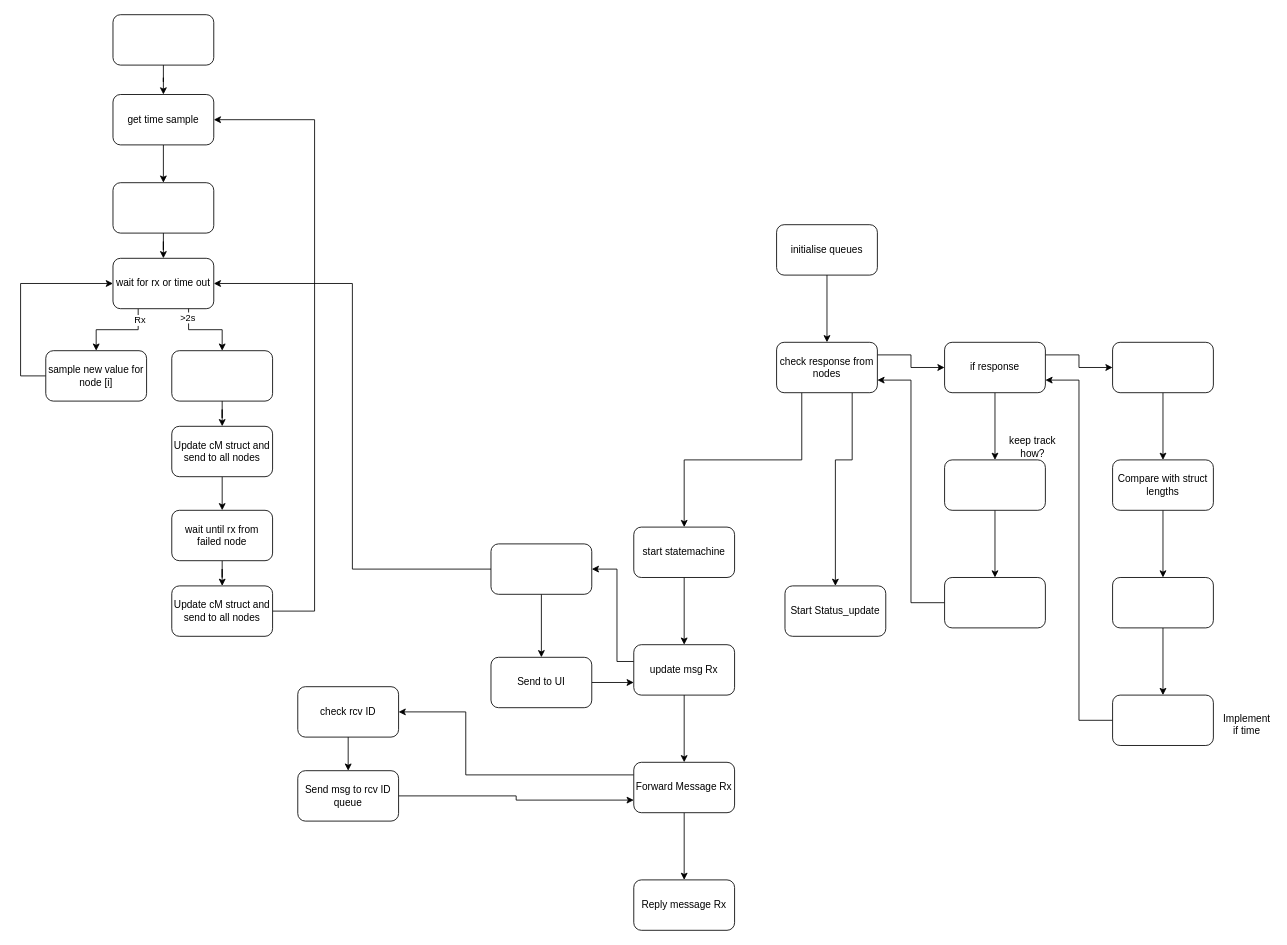
Some shapes in this 1287 by 945 pixel diagram are drawn without their labels. The centre of each missing label's shape, as x and y in pixels:
"enter failed state" belongs at pixel 222 375.
"Health monitor" belongs at pixel 163 39.
"mq_receive" belongs at pixel 1162 367.
"rply to node with ack" belongs at pixel 1162 720.
"save time for Node[i]" belongs at pixel 163 207.
"set variable for that struct length" belongs at pixel 1162 602.
"signal complete" belongs at pixel 994 602.
"System health" belongs at pixel 541 568.
"verify ID and confirm connection (all nodes)" belongs at pixel 994 484.
